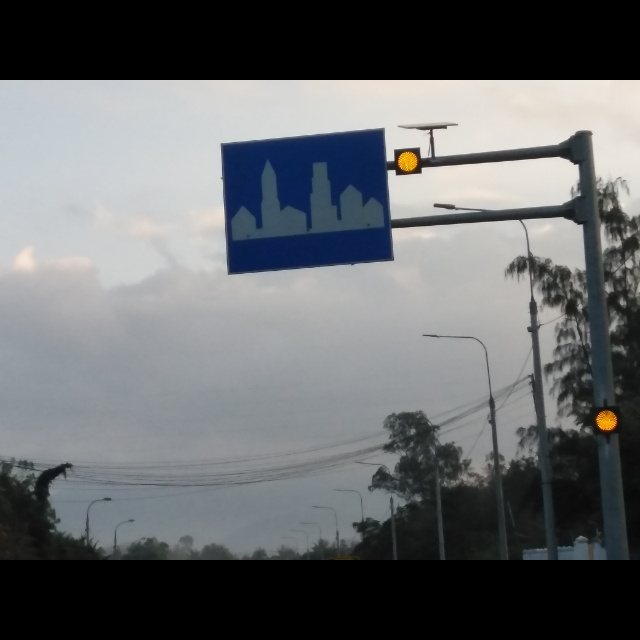Khu đông dân cư: (221, 127, 394, 277)
